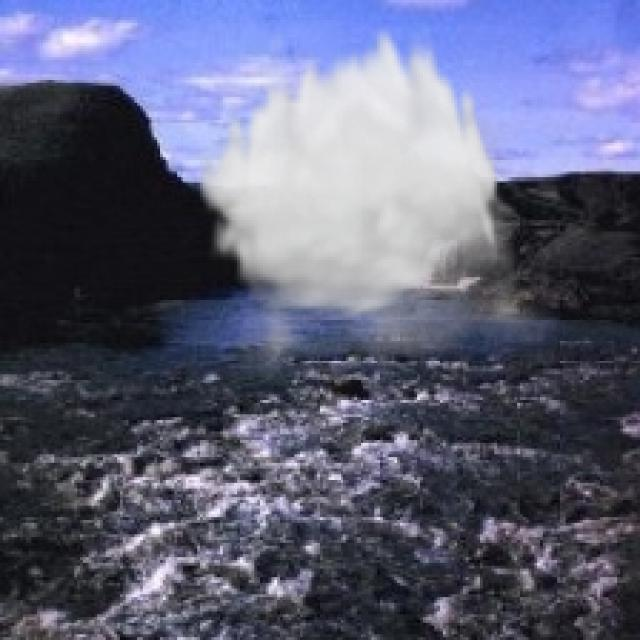smoke: (194, 20, 566, 389)
